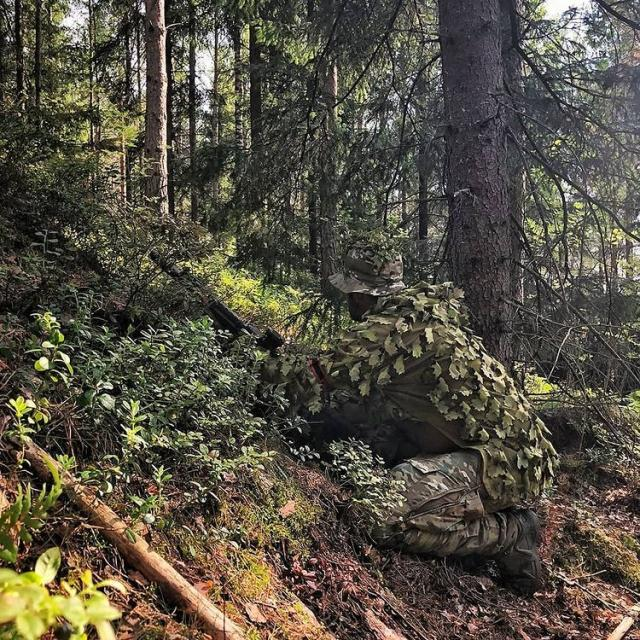Human: (151, 227, 555, 593)
